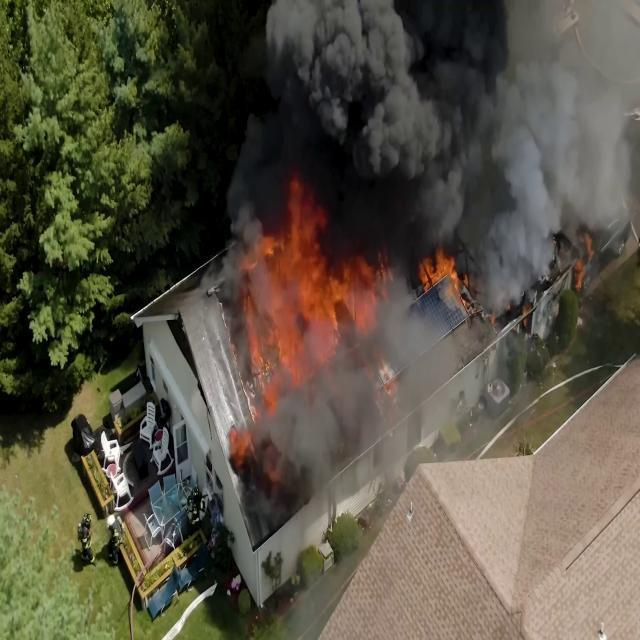Fire: (248, 223, 338, 361)
Smoke: (388, 65, 548, 235), (266, 2, 416, 155)
